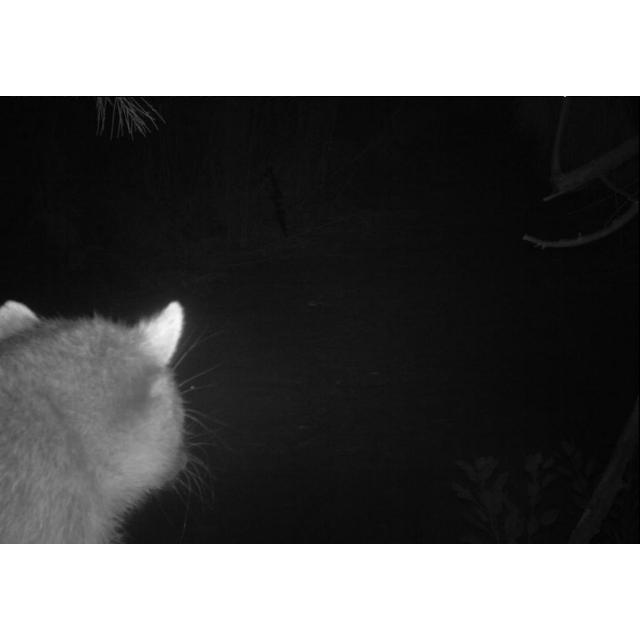animals: (0, 294, 190, 544)
